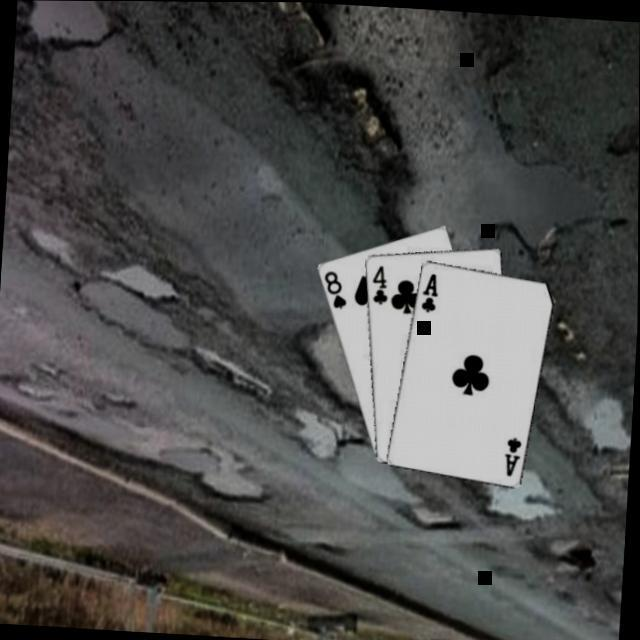4C: (369, 262, 393, 307)
8S: (321, 268, 351, 312)
AC: (502, 434, 526, 479), (419, 270, 442, 315)
